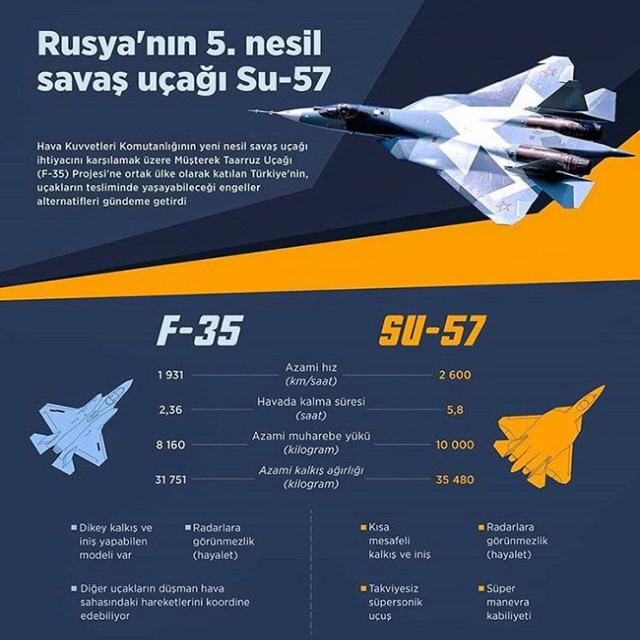MIL_Plane: (246, 56, 637, 226)
